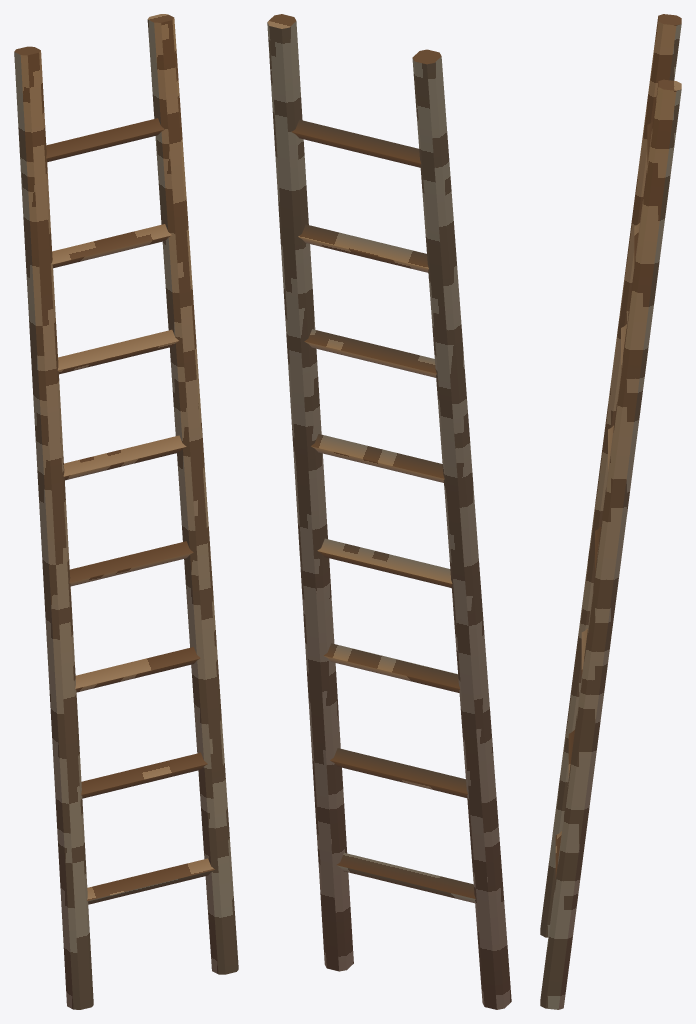
Rendered from wmine.ladder.glb.
3 renders of one model, left to right at view 1: azimuth 30°, elevation 25°; view 2: azimuth 150°, elevation 25°; view 3: azimuth 270°, elevation 25°, orthographic. The views are drawn at different scales.
Parts seen in each view (by area): view 1: kit_poles, kit_rungs; view 2: kit_poles, kit_rungs; view 3: kit_poles, kit_rungs.
Part boxes in pixels (box(x1,y1,x2,y2)): kit_poles: box(14, 14, 238, 1009); kit_rungs: box(30, 118, 214, 904); kit_poles: box(267, 14, 511, 1009); kit_rungs: box(274, 119, 475, 903); kit_poles: box(540, 14, 681, 1009); kit_rungs: box(555, 121, 666, 878).
Size of the model in its own units: 0.57 by 3.01 by 0.4196.
2 materials, 2 textured.
